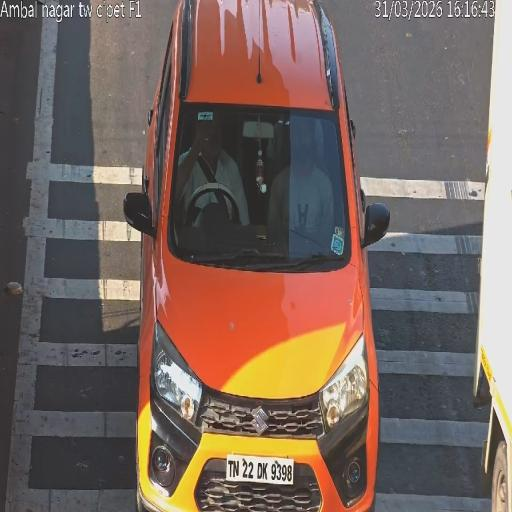person_with_seatbelt: (189, 150, 233, 218)
person_without_seatbelt: (275, 171, 333, 231)
